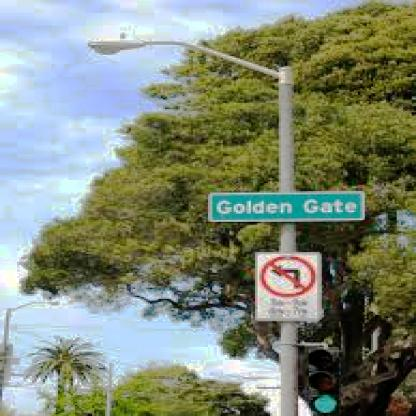No left turn: (262, 250, 316, 296)
